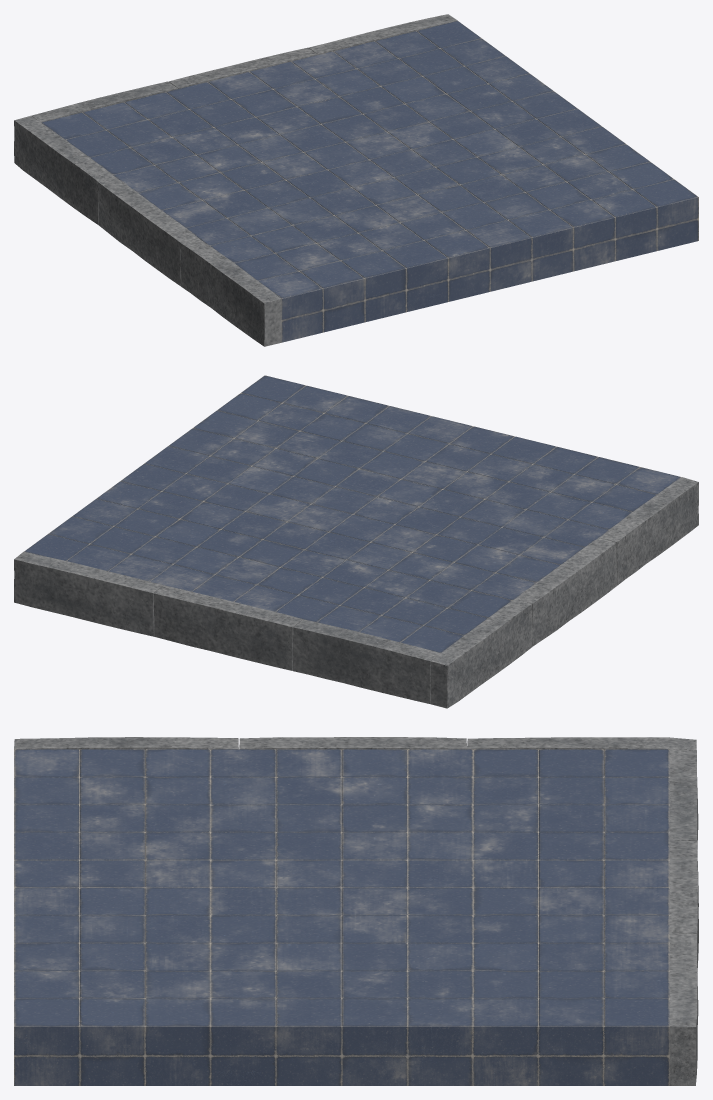
File: SM_Gidan01a.fbx
3 views of the same model, one above another, from view 1: azimuth 30°, elevation 25°; view 2: azimuth 150°, elevation 25°; view 3: azimuth 270°, elevation 25° (orthographic). The views are drawn at different scales.
Parts seen in each view (by area): view 1: SM_Gidan01a; view 2: SM_Gidan01a; view 3: SM_Gidan01a.
Boxes of the visible parts, x1,y1,x2,y2 form: SM_Gidan01a: [14, 14, 698, 346]; SM_Gidan01a: [14, 375, 698, 708]; SM_Gidan01a: [14, 737, 698, 1085].
Bounding box in the file's own units: 314 × 313 × 31.12.
Materials: 2 (2 with a texture image).
